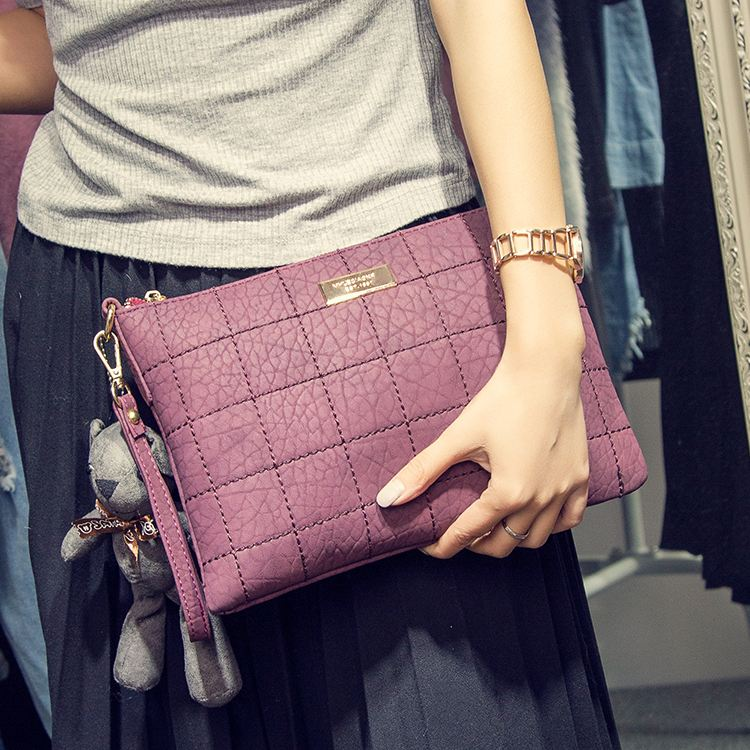no-phone: (354, 267, 599, 565)
